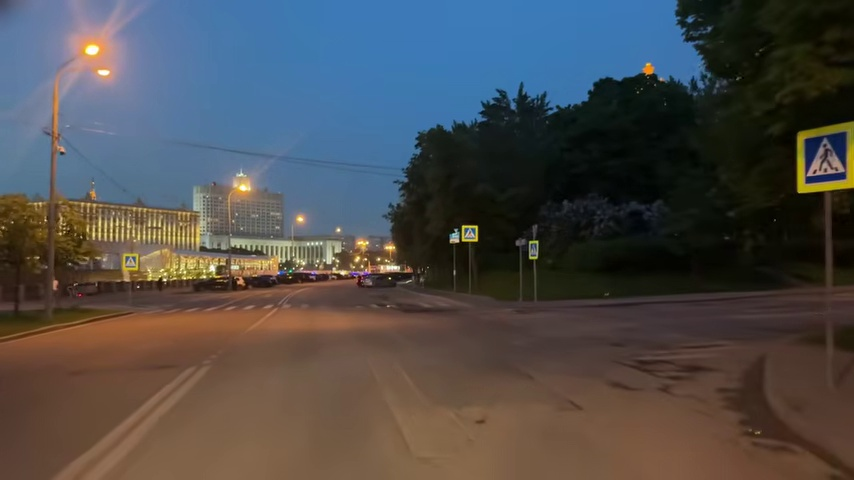acesa: (81, 40, 104, 60), (232, 177, 254, 197), (293, 212, 307, 228)
